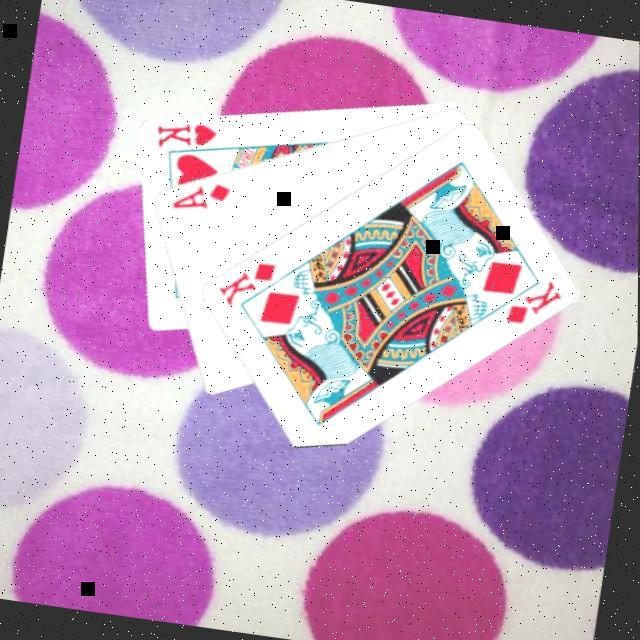AD: (166, 175, 233, 221)
KD: (211, 254, 278, 316), (500, 273, 566, 335)
KH: (150, 115, 220, 160)
